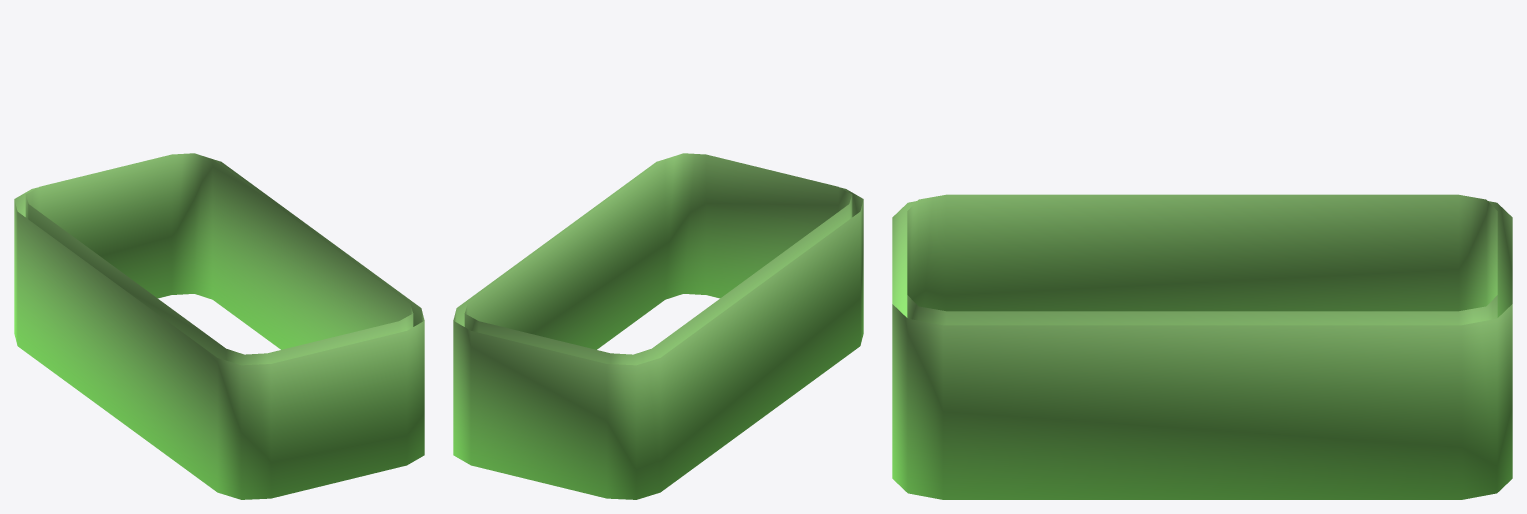
Rendered from rest-spot.fbx.
3 views of the same model, side by side, from view 1: azimuth 30°, elevation 25°; view 2: azimuth 150°, elevation 25°; view 3: azimuth 270°, elevation 25° (orthographic). The views are drawn at different scales.
Parts seen in each view (by area): view 1: rest-spot; view 2: rest-spot; view 3: rest-spot.
Part boxes in pixels (x1,y1,x2,y2): rest-spot: (14,153,424,499); rest-spot: (453,153,863,499); rest-spot: (892,194,1512,499).
Size of the model in its own units: 155 by 315 by 200.
